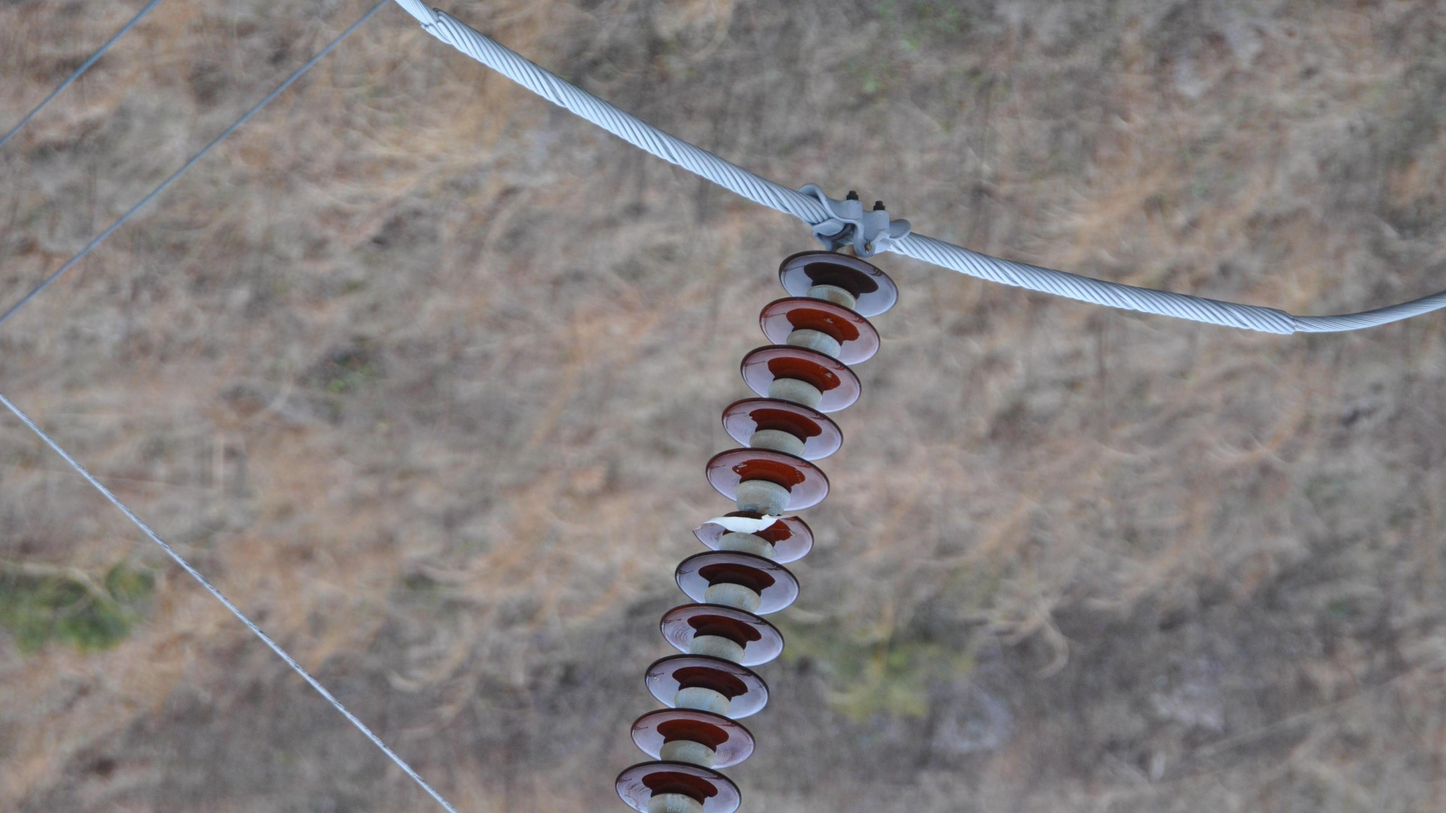insulator: (609, 246, 905, 813)
insulator_breakage: (691, 510, 801, 537)
